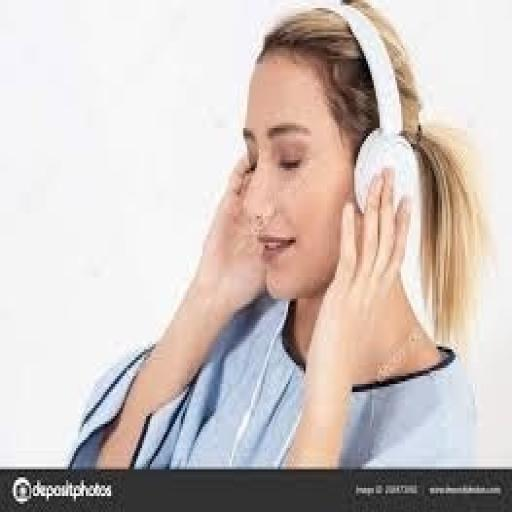listening_to_music: (64, 0, 486, 469)
